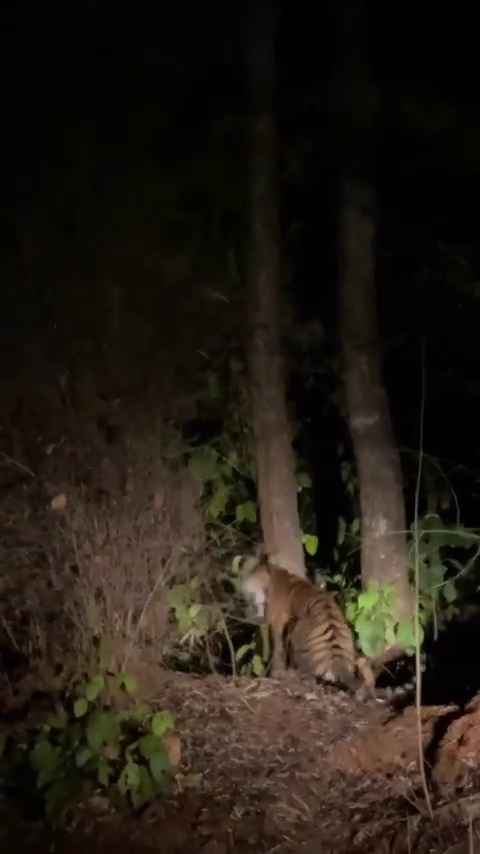Tiger: (237, 552, 428, 702)
